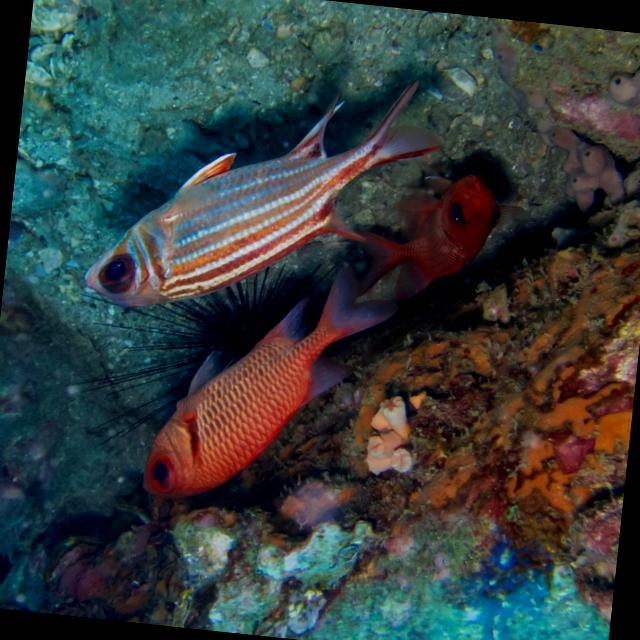Asker Baligi: (79, 44, 448, 340), (136, 239, 402, 522)
